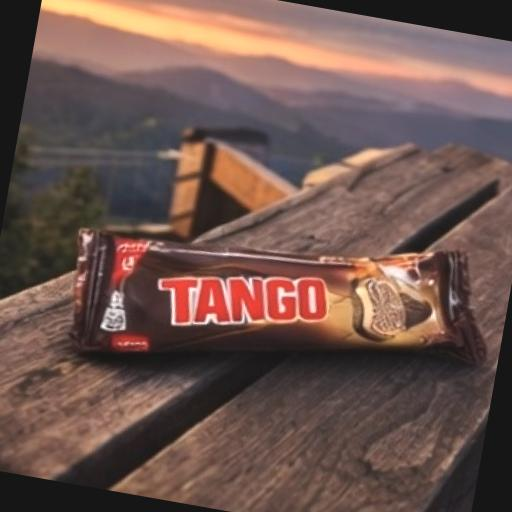tango: (35, 138, 512, 440)
